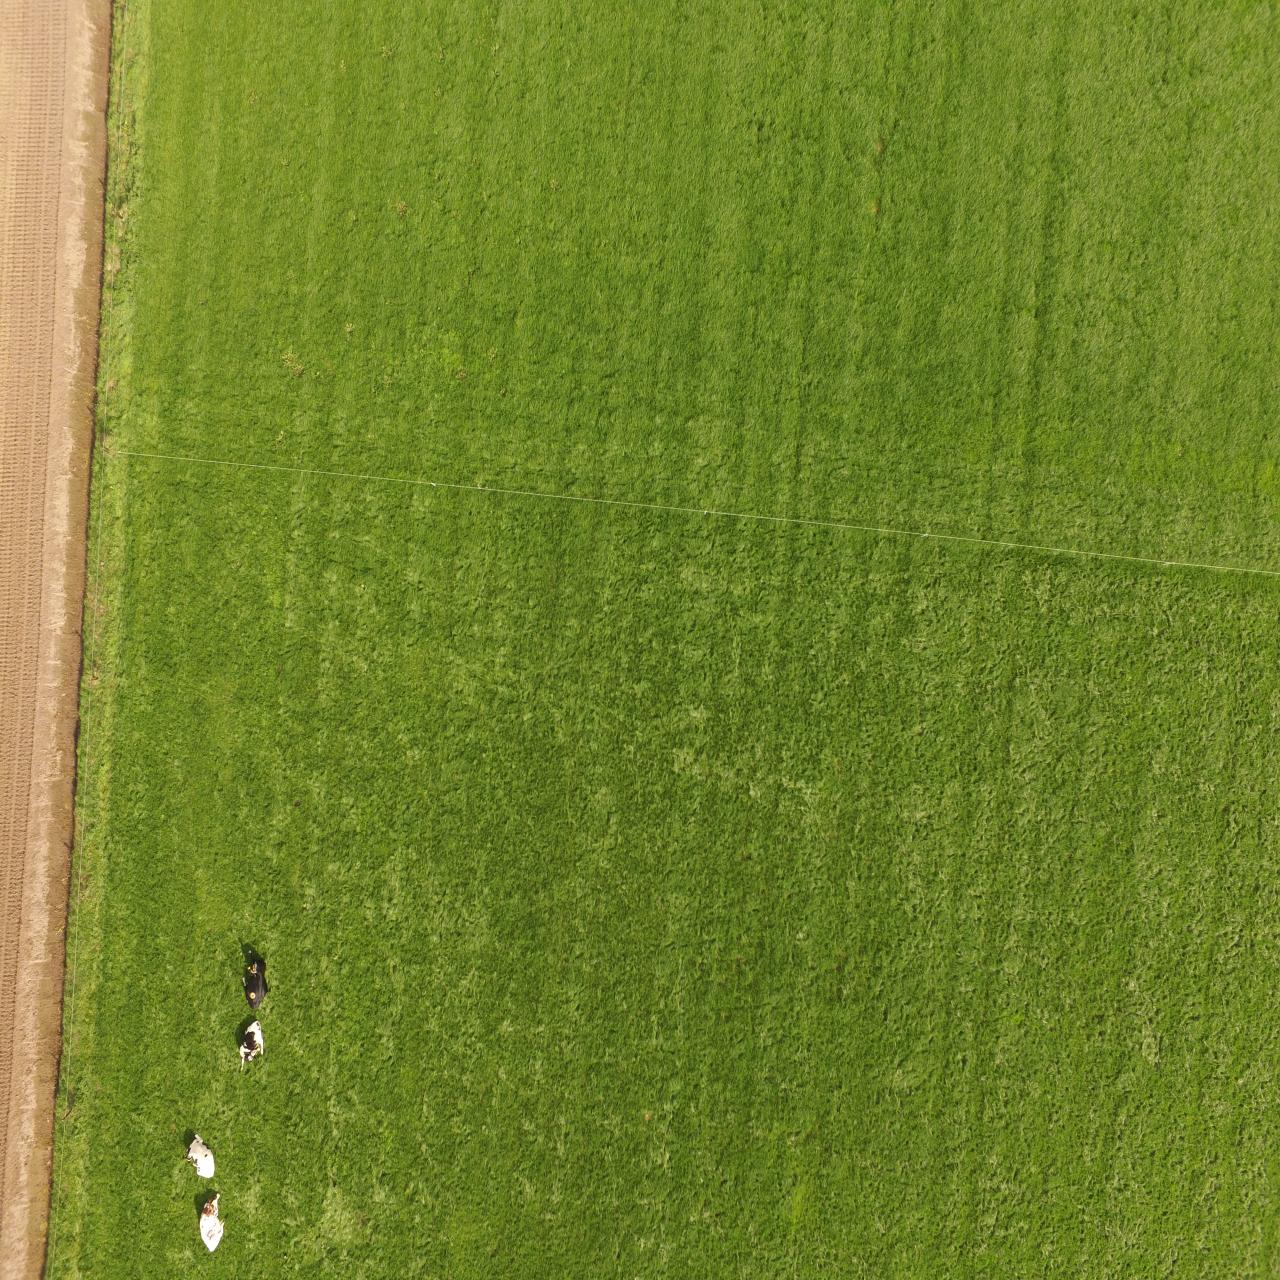cow: (198, 1190, 229, 1253), (241, 946, 268, 1012), (238, 1021, 267, 1071), (184, 1131, 215, 1179)
